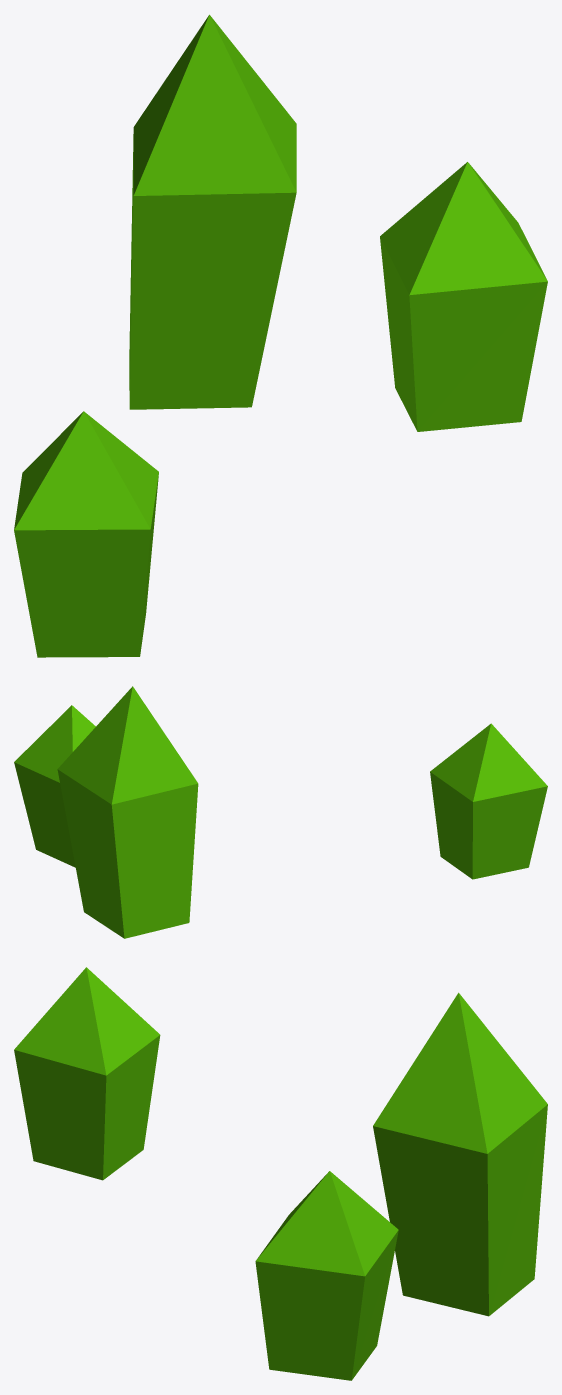
File: crystal_terra_2.obj
3 renders of one model, top to bottom at view 1: azimuth 30°, elevation 25°; view 2: azimuth 150°, elevation 25°; view 3: azimuth 270°, elevation 25°, orthographic. The views are drawn at different scales.
Visible parts, largest first — view 1: s016, s014, s015; view 2: s016, s015, s014; view 3: s016, s015, s014.
Part boxes in pixels (<box>): s016: <box>129,14,296,409</box>; s014: <box>380,162,547,431</box>; s015: <box>14,411,158,657</box>; s016: <box>57,686,198,938</box>; s015: <box>430,723,547,879</box>; s014: <box>14,705,95,867</box>; s016: <box>373,992,547,1316</box>; s015: <box>14,967,160,1180</box>; s014: <box>255,1171,398,1380</box>.
Size of the model in its own units: 0.8279 by 0.4254 by 0.6865.
